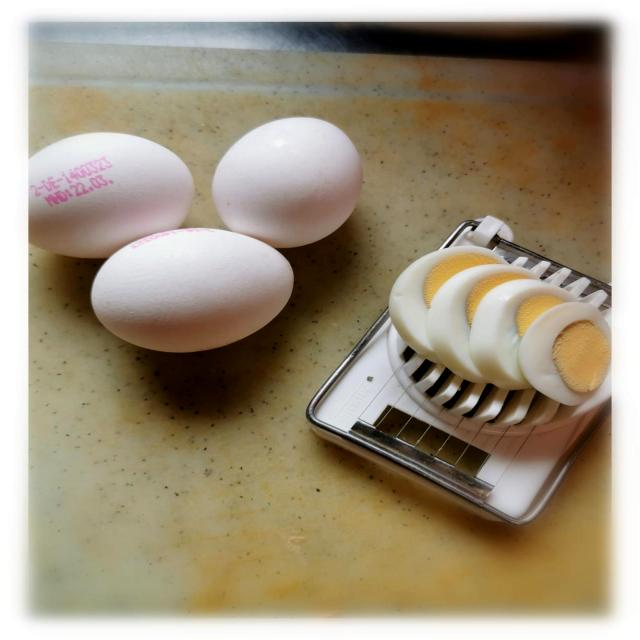egg: (94, 225, 293, 355), (209, 96, 373, 246), (28, 124, 204, 257)
